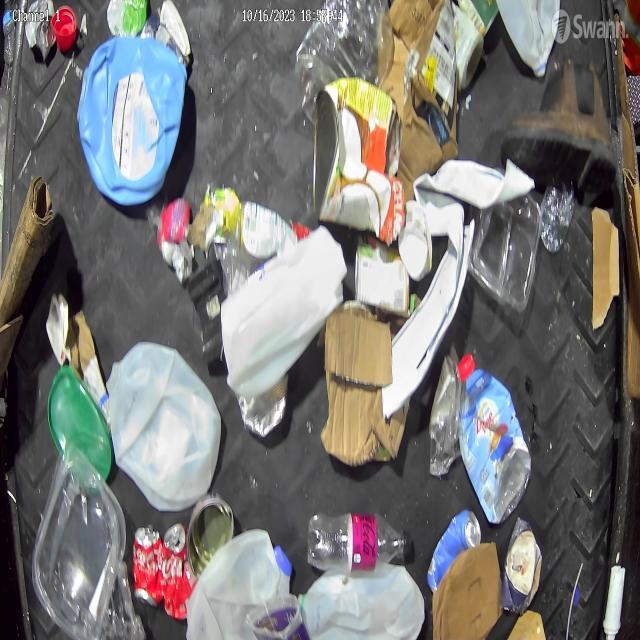can: (312, 80, 401, 242), (428, 510, 483, 595), (354, 237, 411, 317), (186, 491, 235, 580), (238, 372, 290, 440), (164, 520, 190, 620), (134, 524, 164, 608), (25, 0, 55, 61)
milk_jug: (221, 224, 348, 400), (106, 338, 222, 511), (184, 527, 294, 640), (298, 562, 426, 640), (496, 0, 561, 79)
non_white_jug: (77, 36, 186, 206)
plastic_bottle: (296, 0, 394, 125), (308, 512, 412, 572), (540, 182, 576, 252), (3, 0, 16, 64)
